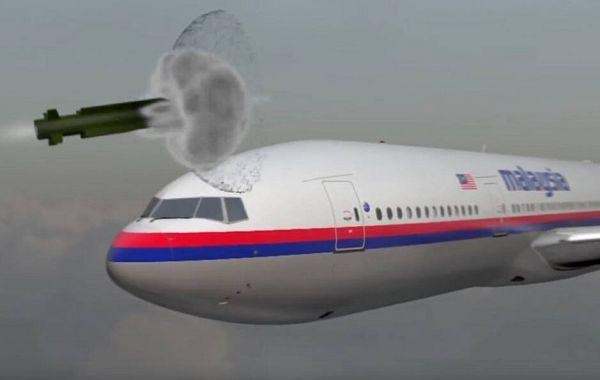airplane: (103, 141, 600, 334)
